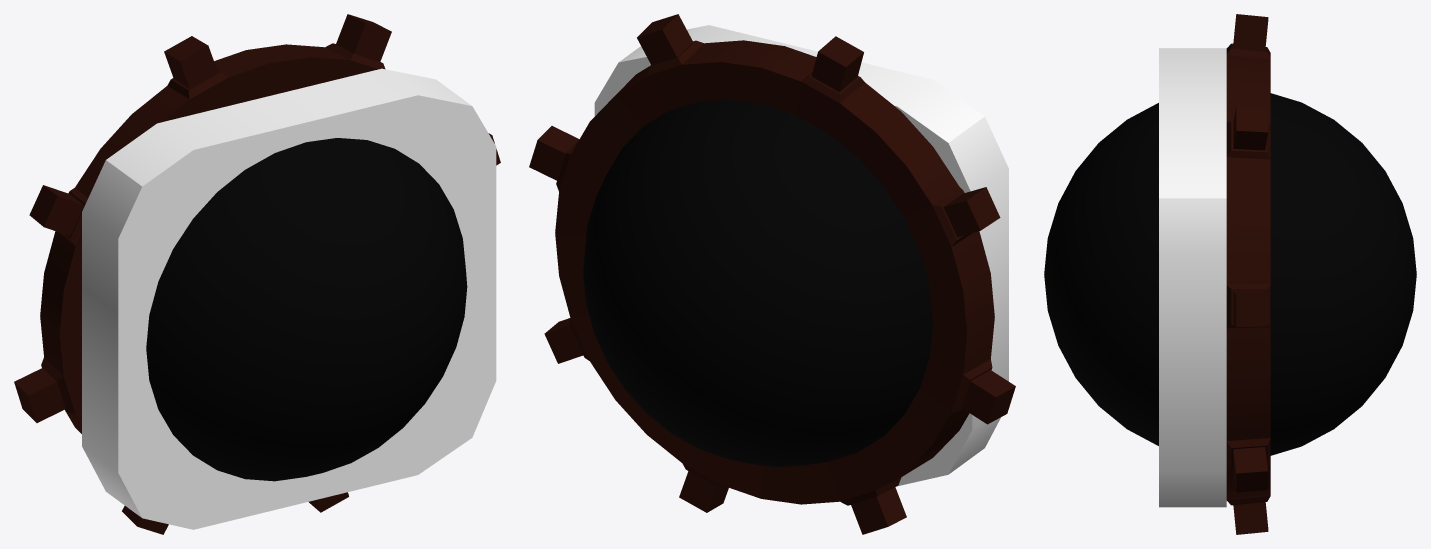
File: Brujula text.fbx
3 views of the same model, side by side, from view 1: azimuth 30°, elevation 25°; view 2: azimuth 150°, elevation 25°; view 3: azimuth 270°, elevation 25° (orthographic). The views are drawn at different scales.
Visible parts, largest first — view 1: carcasa001, cubo001, engranaje001; view 2: cristal001, engranaje001, cubo001; view 3: cristal001, cubo001, carcasa001, engranaje001.
Boxes of the visible parts, x1,y1,x2,y2 form: carcasa001: (146,138,467,481); cubo001: (82,68,496,529); engranaje001: (14,14,500,534); cristal001: (583,99,932,467); engranaje001: (529,14,1015,534); cubo001: (594,25,1008,486); cristal001: (1270,93,1416,455); cubo001: (1159,48,1226,507); carcasa001: (1044,103,1158,445); engranaje001: (1226,14,1270,534).
Bounding box in the file's own units: 50.02 × 50.02 × 36.66.
